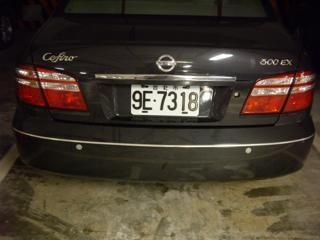plate: (128, 83, 201, 117)
